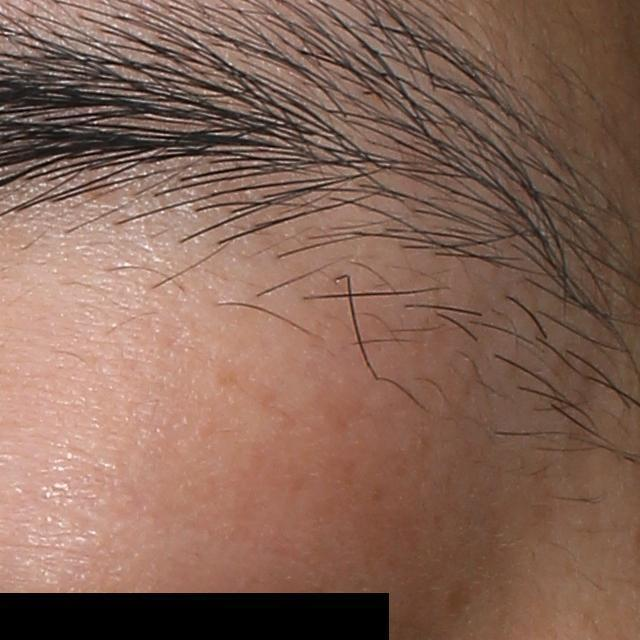melasma: (433, 573, 477, 623)
